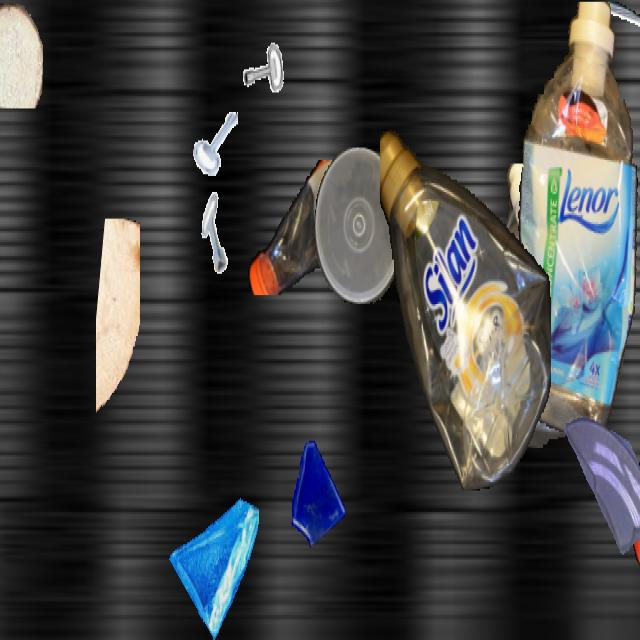glass: (168, 478, 258, 638), (564, 402, 640, 569), (286, 436, 348, 546)
metal: (578, 2, 640, 112), (231, 4, 287, 103), (194, 192, 240, 274), (193, 105, 237, 183)
plastic: (380, 117, 550, 491), (500, 2, 640, 446), (493, 164, 627, 448), (246, 160, 392, 295), (315, 148, 403, 304), (621, 425, 640, 567)
wood: (96, 219, 140, 425), (0, 3, 43, 106)
